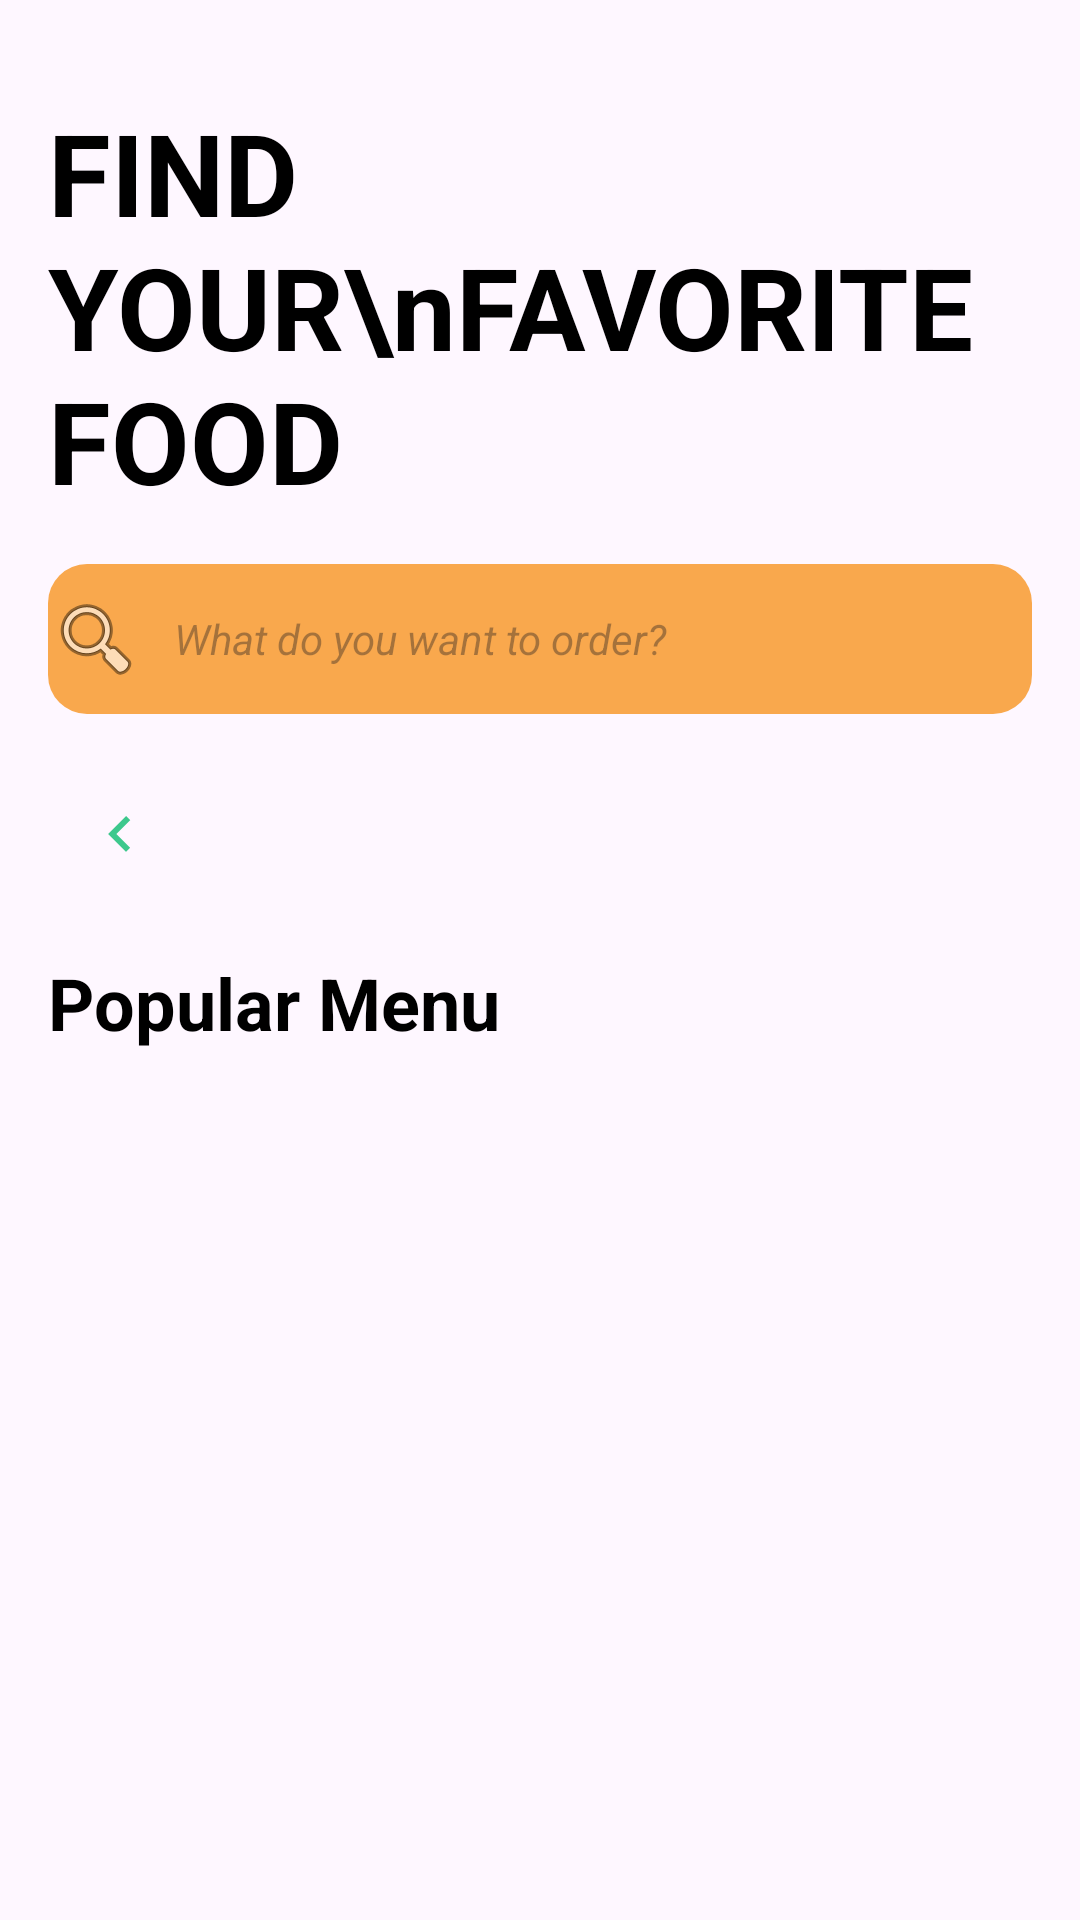

Icon bounding boxes for this 1080px×1920px phone screenshot, format [x1,y1,x2,y2]:
Quay lại: [108,816,130,852]
